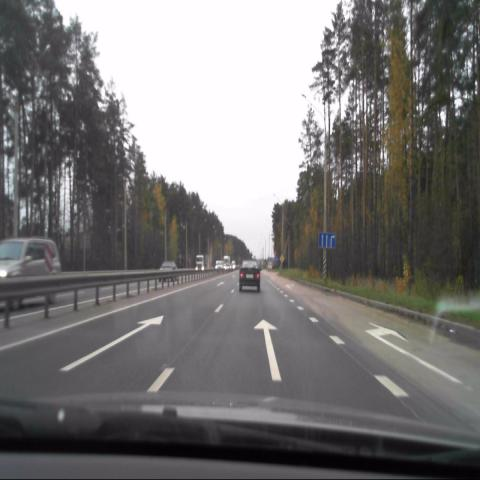5_15_1: (317, 232, 336, 250)
